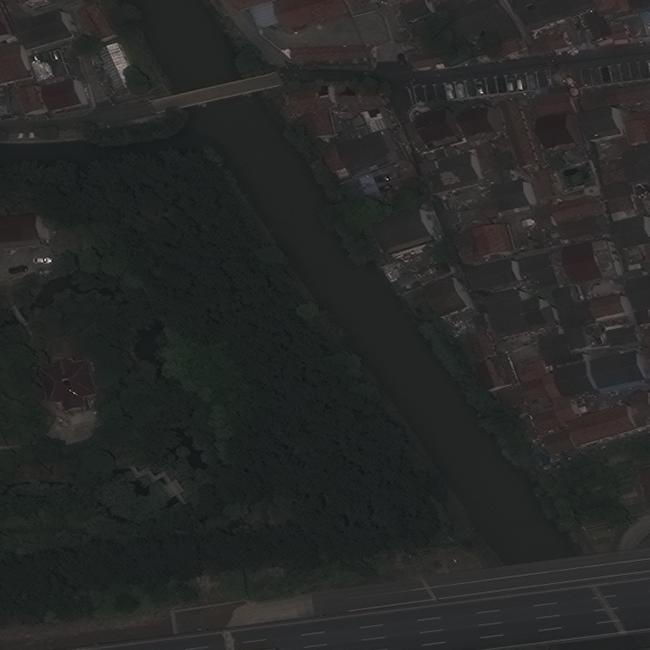parking lot: (412, 68, 553, 104), (569, 62, 643, 89)
